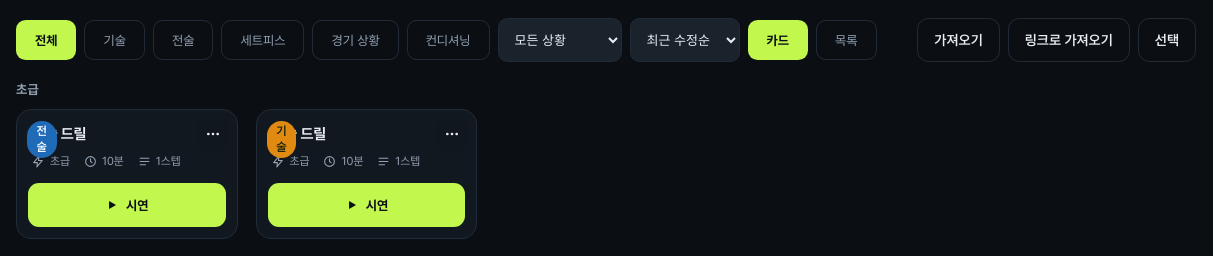
Test: LibraryScreen — 드릴 탭 › 유형 필터로 목록을 좁힌다 (v8 — 옛 카테고리 필터의 후계)
Expected: the text "기술 드릴" is shown, top-left (272, 125), bottom-right (326, 143)
Expected: the text "전술 드릴" is shown, top-left (32, 125), bottom-right (86, 143)
Click the radio button labelled "전술": x=183, y=40 top-left (153, 20), bottom-right (214, 60)
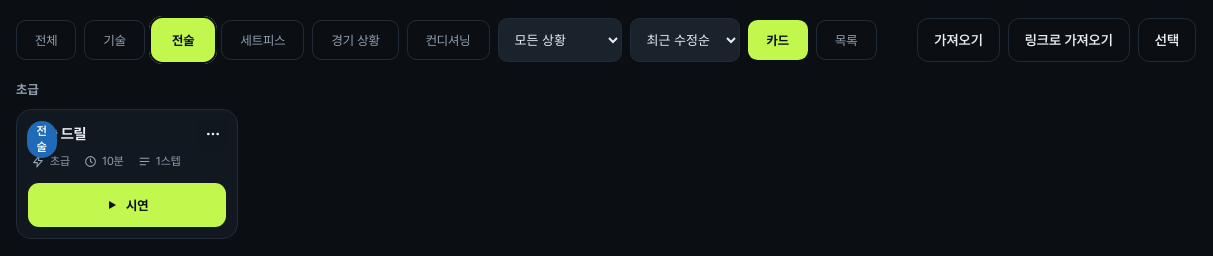
Expected: the text "전술 드릴" is shown, top-left (32, 125), bottom-right (86, 143)
Expected: the button "기술 드릴" is gone
